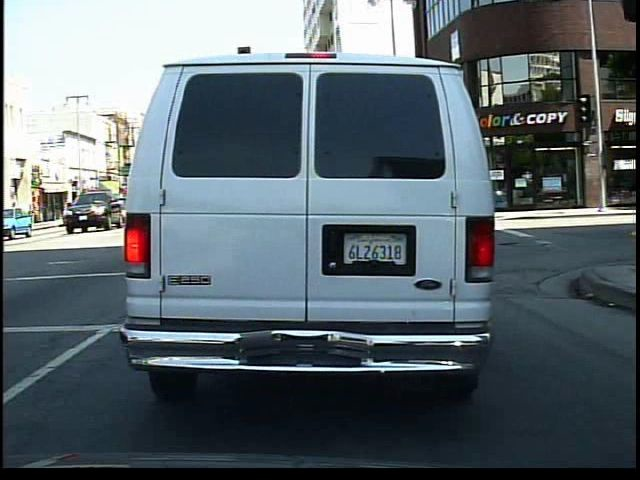person: (6, 198, 23, 232)
